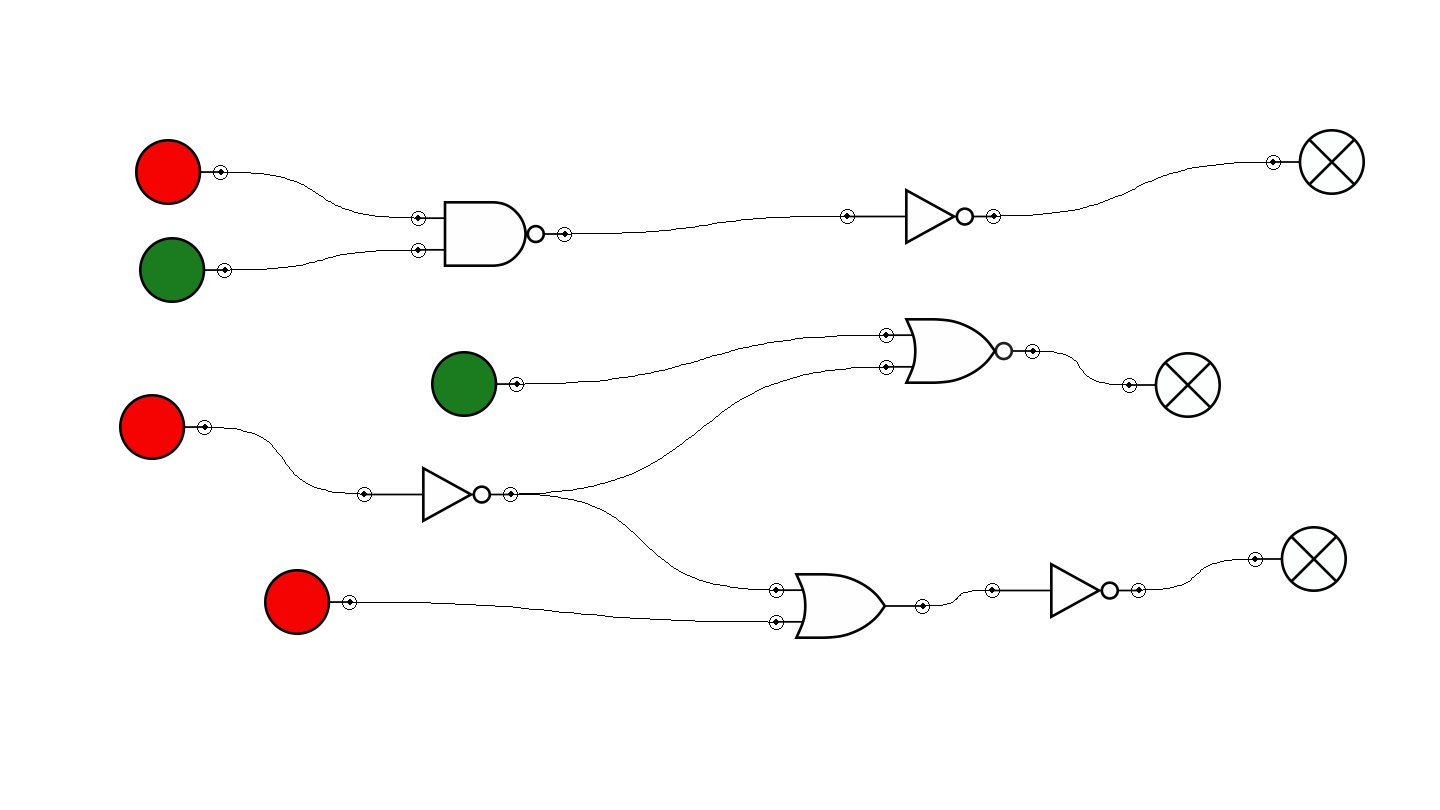bulb: (1122, 352, 1221, 418), (1266, 129, 1365, 195), (1248, 526, 1347, 592)
nand: (411, 201, 572, 267)
nor: (879, 318, 1040, 384)
not: (985, 562, 1146, 619), (357, 466, 518, 523), (840, 188, 1001, 245)
or: (769, 573, 930, 639)
switch_False: (119, 394, 212, 460), (264, 569, 357, 635), (135, 139, 228, 205)
switch_True: (139, 237, 232, 303), (431, 351, 524, 417)
